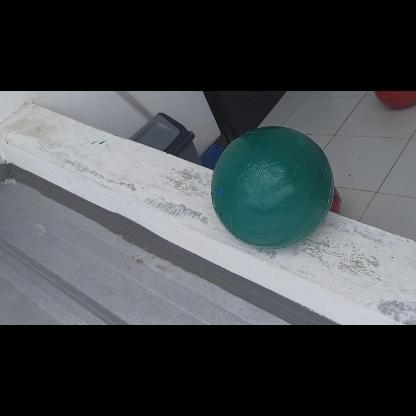green_ball: (208, 125, 332, 249)
